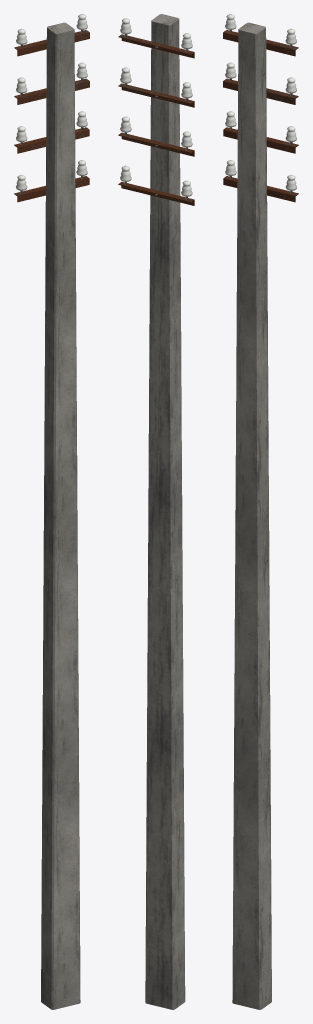
The model's file is pole_sv95_web.glb.
3 views of the same model, side by side, from view 1: azimuth 30°, elevation 25°; view 2: azimuth 150°, elevation 25°; view 3: azimuth 330°, elevation 25° (orthographic).
Parts seen in each view (by area): view 1: PoleSV95_Mesh; view 2: PoleSV95_Mesh; view 3: PoleSV95_Mesh.
Boxes of the visible parts, <box> form: PoleSV95_Mesh: <box>14,14,89,1009</box>; PoleSV95_Mesh: <box>118,14,194,1009</box>; PoleSV95_Mesh: <box>223,14,298,1009</box>.
Size of the model in its own units: 0.6202 by 8 by 0.2656.
Materials: 4 (3 with a texture image).
